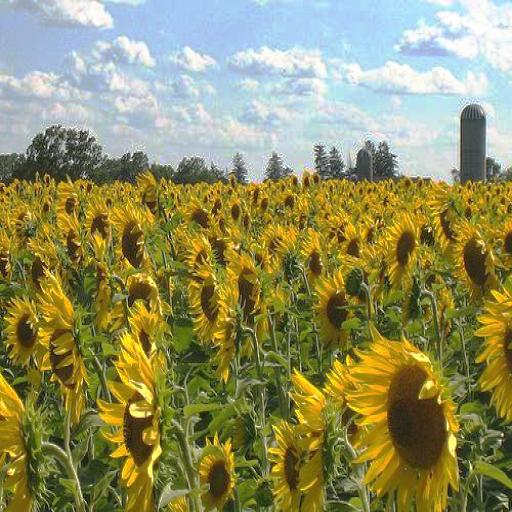sunflower: (351, 332, 469, 512), (102, 351, 174, 512), (288, 372, 340, 512), (40, 280, 86, 407), (474, 290, 512, 424), (194, 433, 240, 512), (228, 254, 270, 339), (188, 274, 232, 354), (454, 226, 500, 300), (268, 420, 304, 512), (2, 292, 45, 369), (314, 273, 356, 341), (386, 216, 424, 280), (114, 206, 152, 264), (340, 225, 373, 268), (62, 222, 85, 265), (303, 239, 323, 277), (58, 190, 80, 220)
